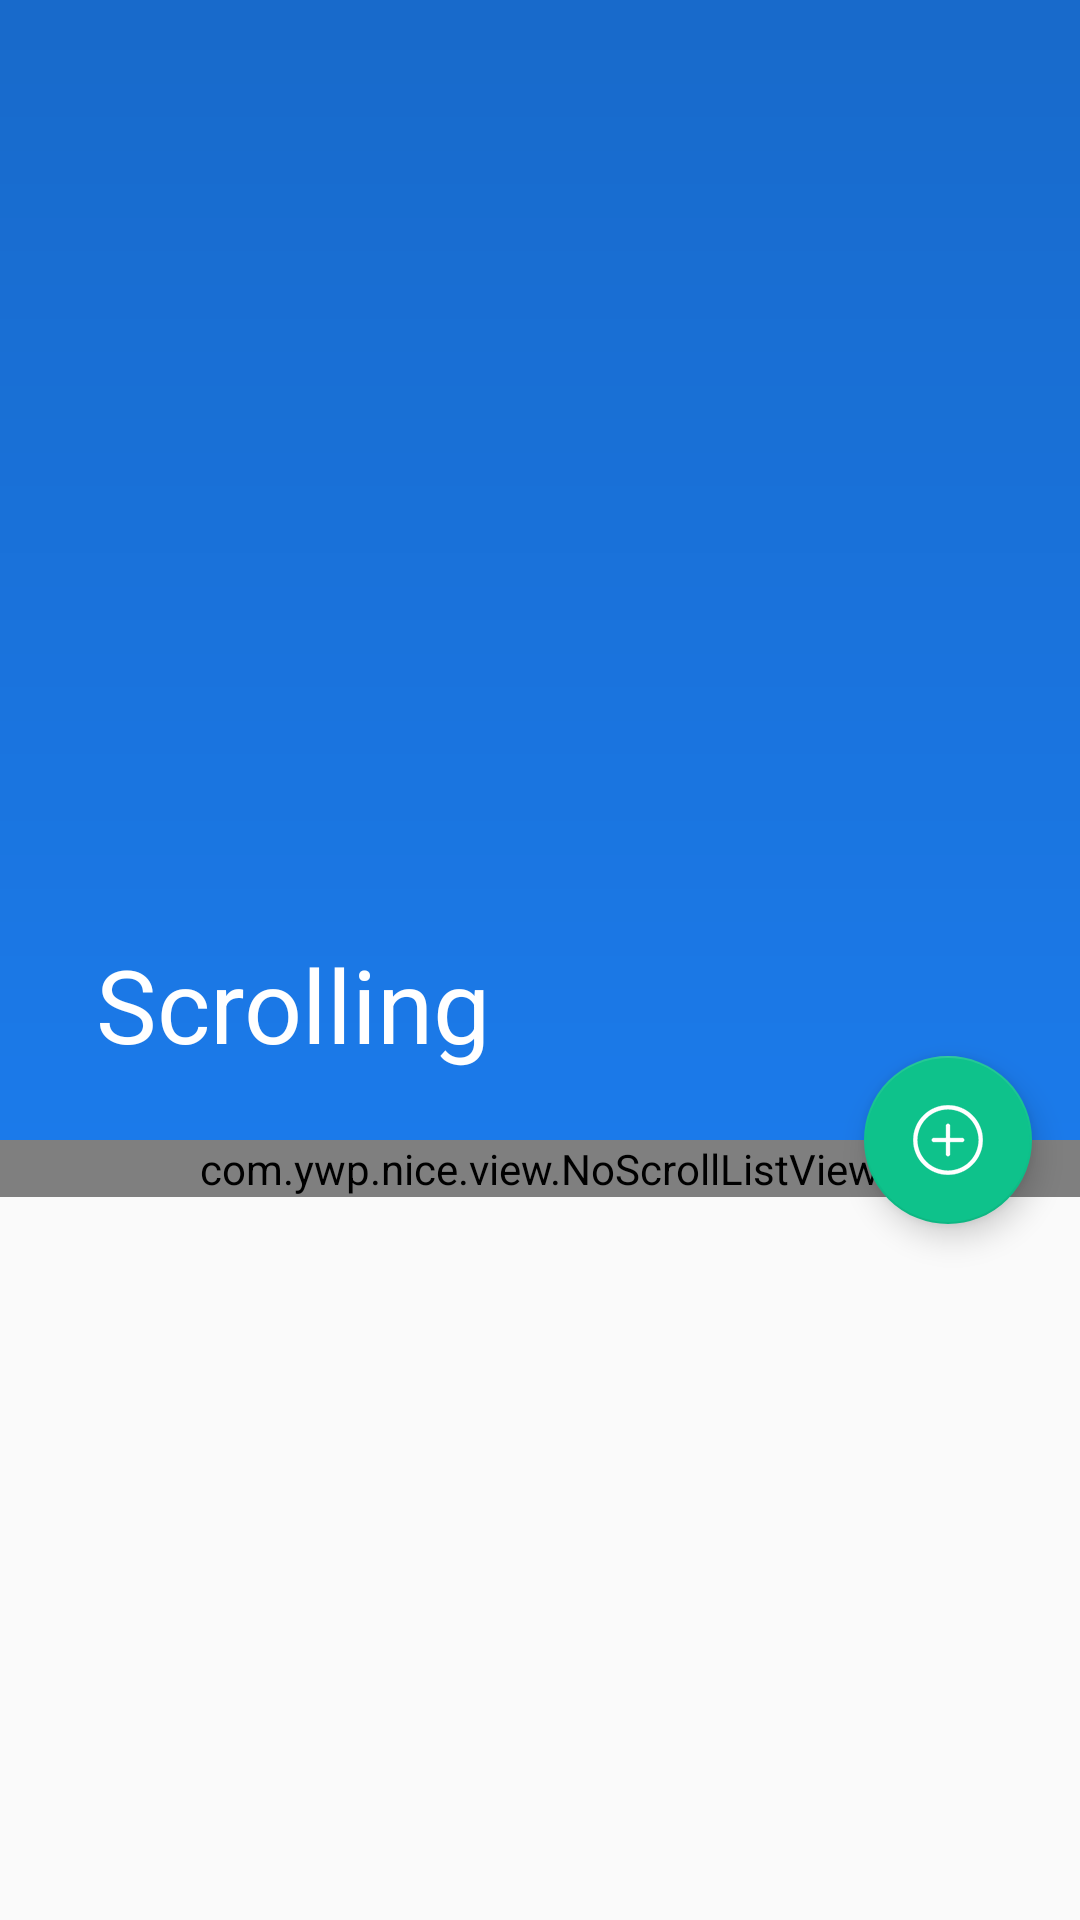

Named icons in this screenshot (1080w x 1920h) and their centers, (x,y):
top add: (948,1140)
